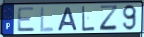9: (121, 4, 138, 33)
A: (57, 6, 79, 32)
E: (16, 6, 36, 33)
L: (39, 6, 55, 33), (82, 6, 96, 33)
Z: (99, 5, 120, 32)
